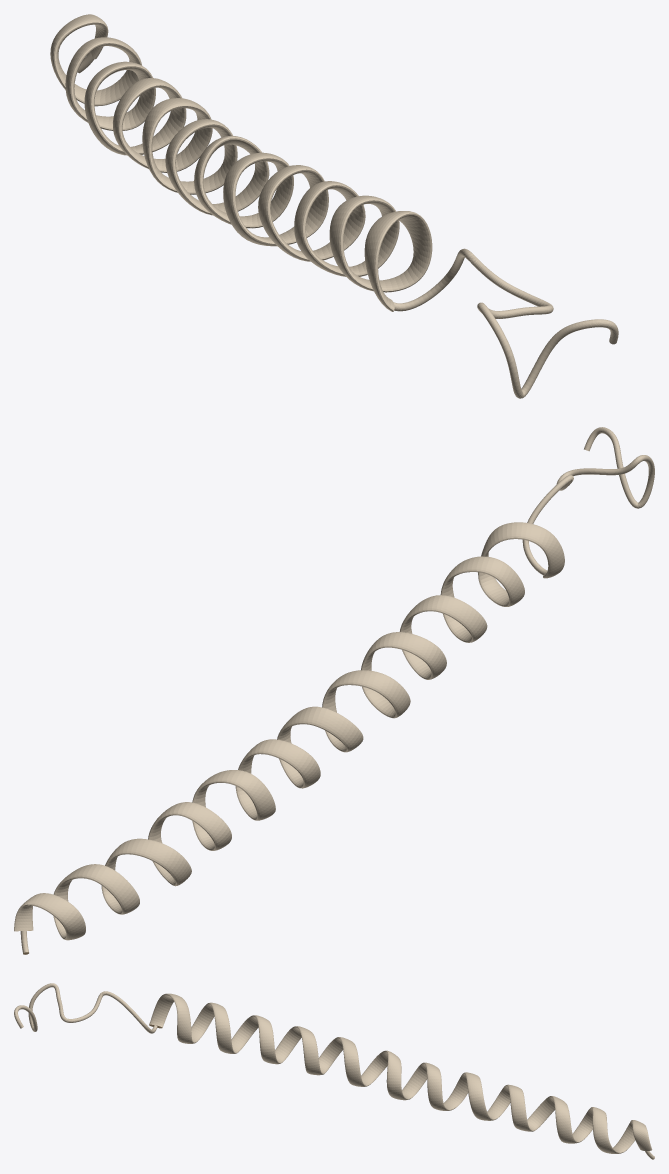
Rendered from HelixSheetfCoil.dae.
3 renders of one model, top to bottom at view 1: azimuth 30°, elevation 25°; view 2: azimuth 150°, elevation 25°; view 3: azimuth 270°, elevation 25°, orthographic. The views are drawn at different scales.
Visible parts, largest first — view 1: Shape_IndexedTriangleStripSet_054; view 2: Shape_IndexedTriangleStripSet_054; view 3: Shape_IndexedTriangleStripSet_054.
Part boxes in pixels (x1,y1,x2,y2): Shape_IndexedTriangleStripSet_054: (50,14,618,398); Shape_IndexedTriangleStripSet_054: (14,427,654,954); Shape_IndexedTriangleStripSet_054: (14,983,654,1159).
Bounding box in the file's own units: 15.66 × 79.55 × 17.77.
